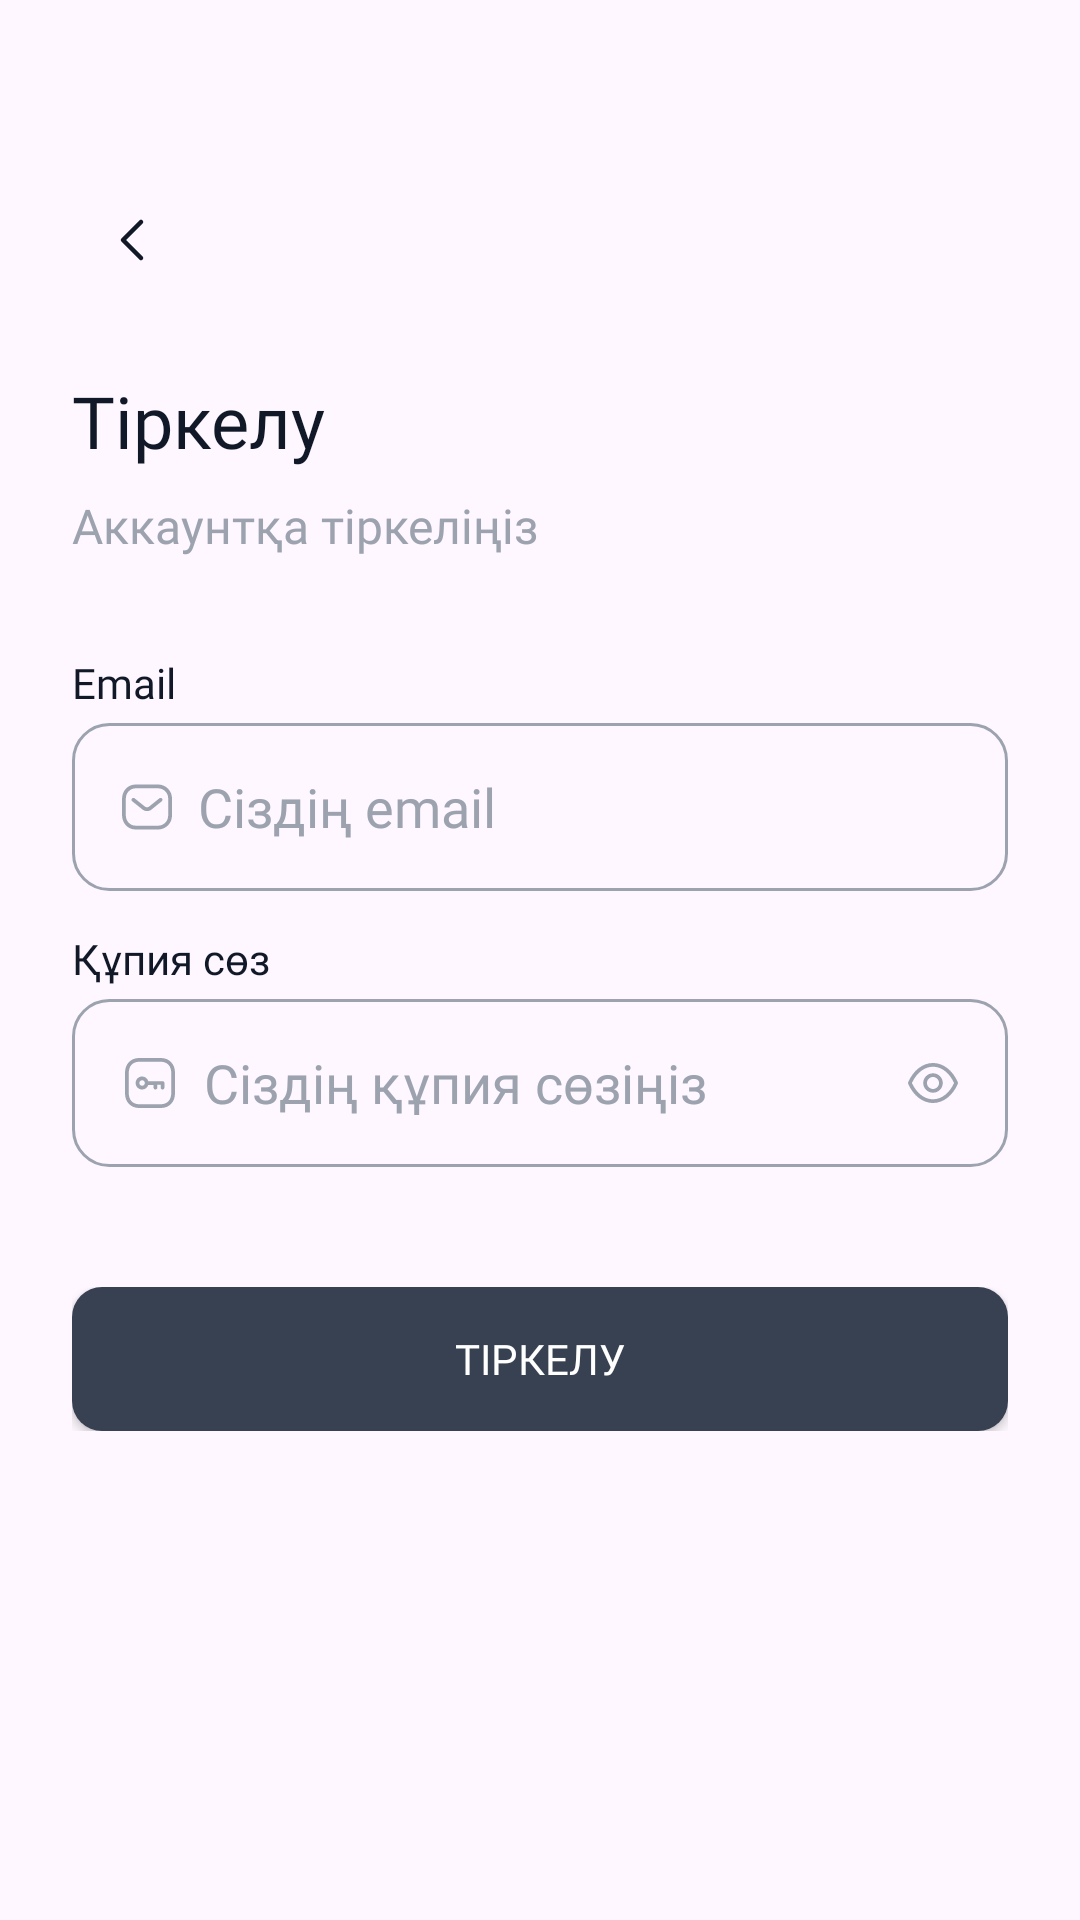

Named icons in this screenshot (1080w x 1920h) and their bounding boxes, (x1, y1, x2, y2):
back: (120, 219, 144, 261)
password show: (908, 1063, 958, 1103)
